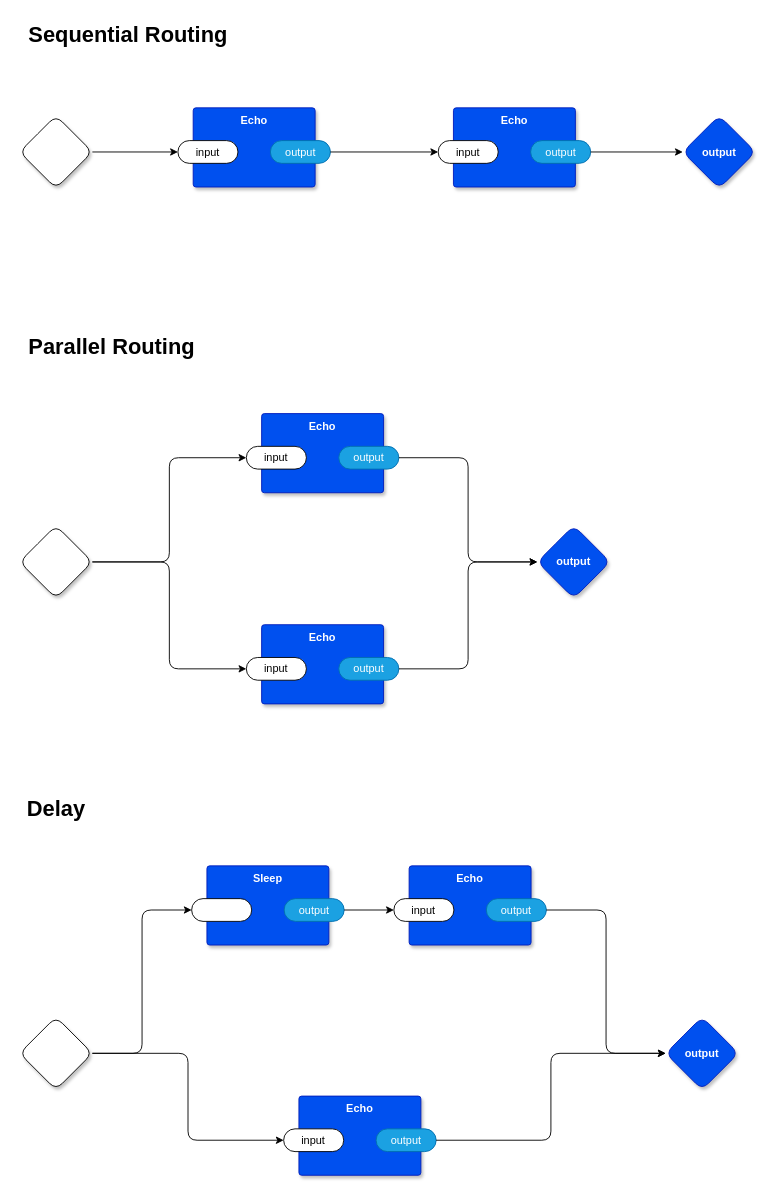
The diagram is 777 pixels wide and 1198 high, and some of its shapes have lost their labels. Here are the shapes that lost their labels. From the top down, the centre of each, then its label:
pixel 56 153: seq
pixel 56 563: par
pixel 221 909: wait
pixel 56 1054: delayed
